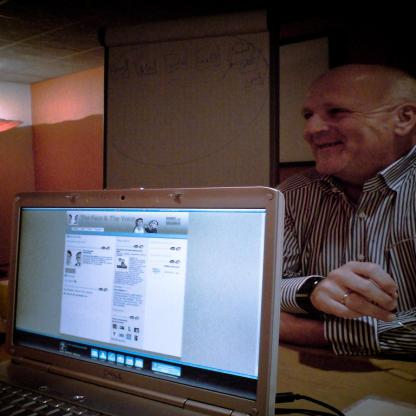board: (0, 210, 294, 416)
